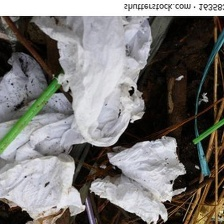tissue: (25, 16, 159, 152), (0, 48, 91, 168), (84, 131, 191, 224), (0, 150, 89, 223)
